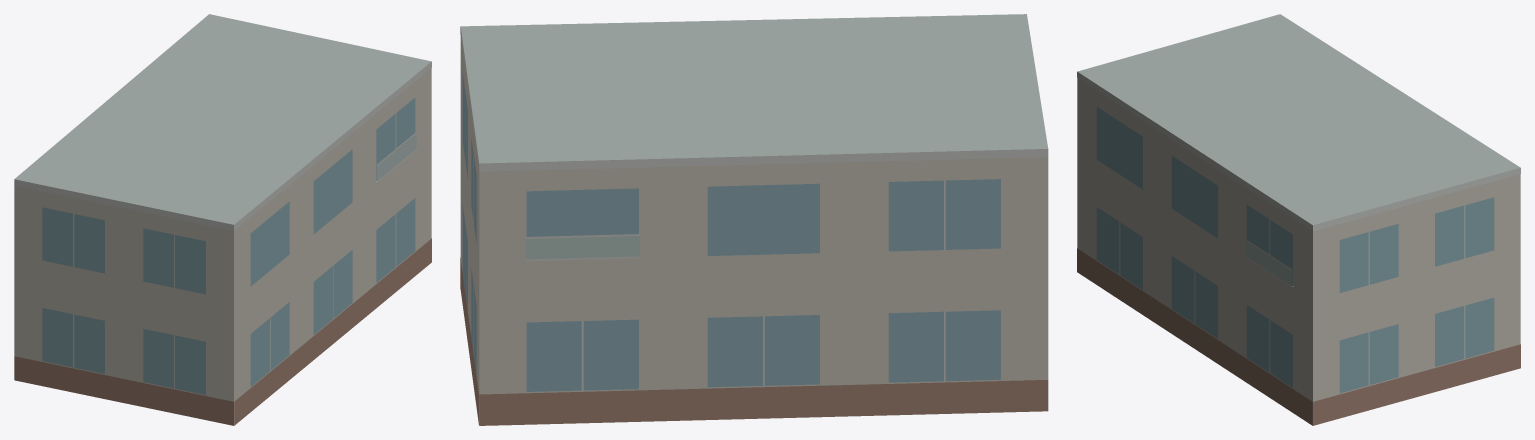
Rendered from survey-upis-33016349.glb.
3 renders of one model, left to right at view 1: azimuth 30°, elevation 25°; view 2: azimuth 150°, elevation 25°; view 3: azimuth 270°, elevation 25°, orthographic. The views are drawn at different scales.
Parts seen in each view (by area): view 1: survey-upis-33016349.tmp; view 2: survey-upis-33016349.tmp; view 3: survey-upis-33016349.tmp.
Boxes of the visible parts, x1,y1,x2,y2 form: survey-upis-33016349.tmp: [14, 14, 431, 425]; survey-upis-33016349.tmp: [460, 14, 1048, 425]; survey-upis-33016349.tmp: [1077, 14, 1520, 425].
Size of the model in its own units: 17.63 by 7.8 by 15.64.
